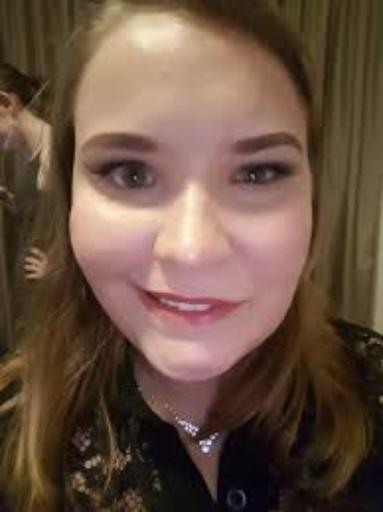left_eye: (230, 160, 294, 192)
left_lip_corner: (233, 291, 257, 314)
right_eye: (93, 158, 164, 195)
right_lip_corner: (137, 279, 163, 306)
